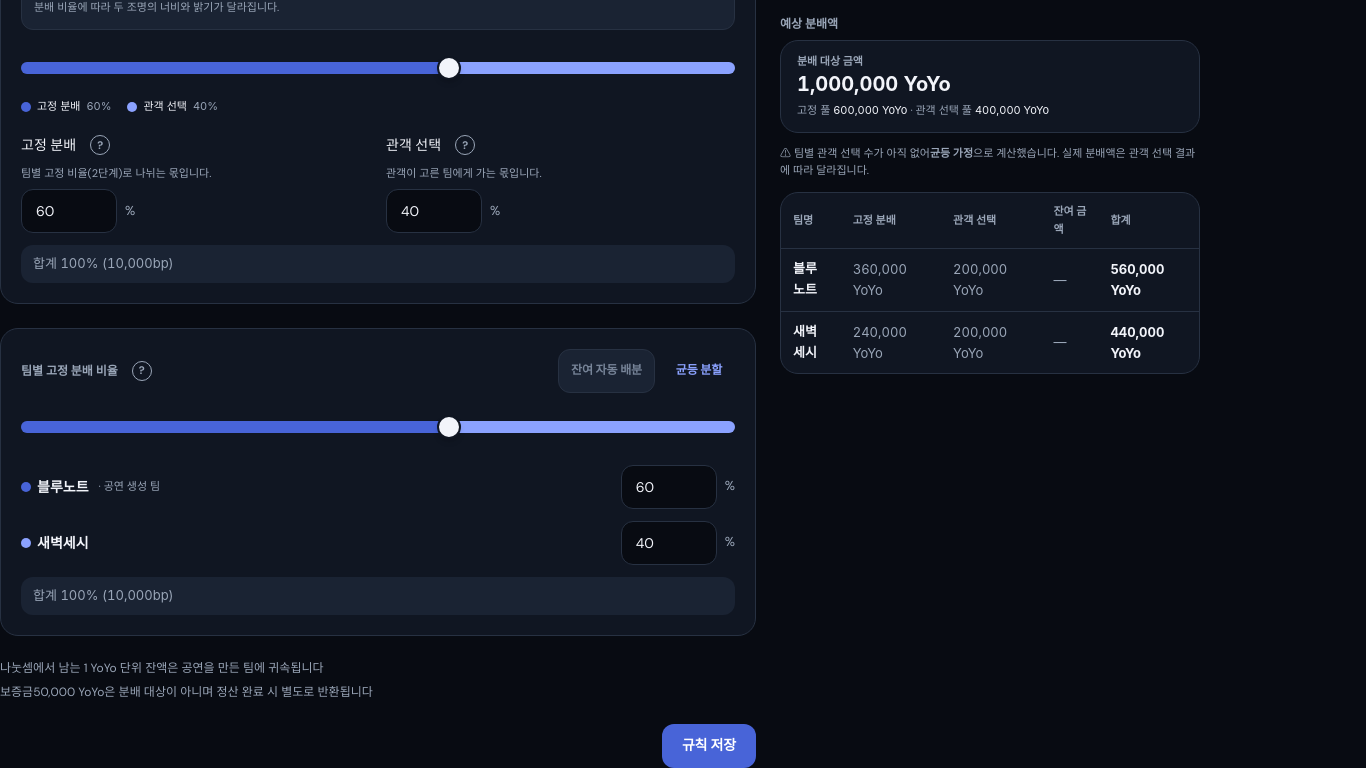
Scenario: 규칙 저장 성공 모달 › 닫기는 화면에 머물고 인라인 안내는 남는다 · Esc로도 닫힌다
(page scrolled)
Click the button "규칙 저장" at {"x": 709, "y": 746}, box [662, 724, 756, 767]
(page scrolled)
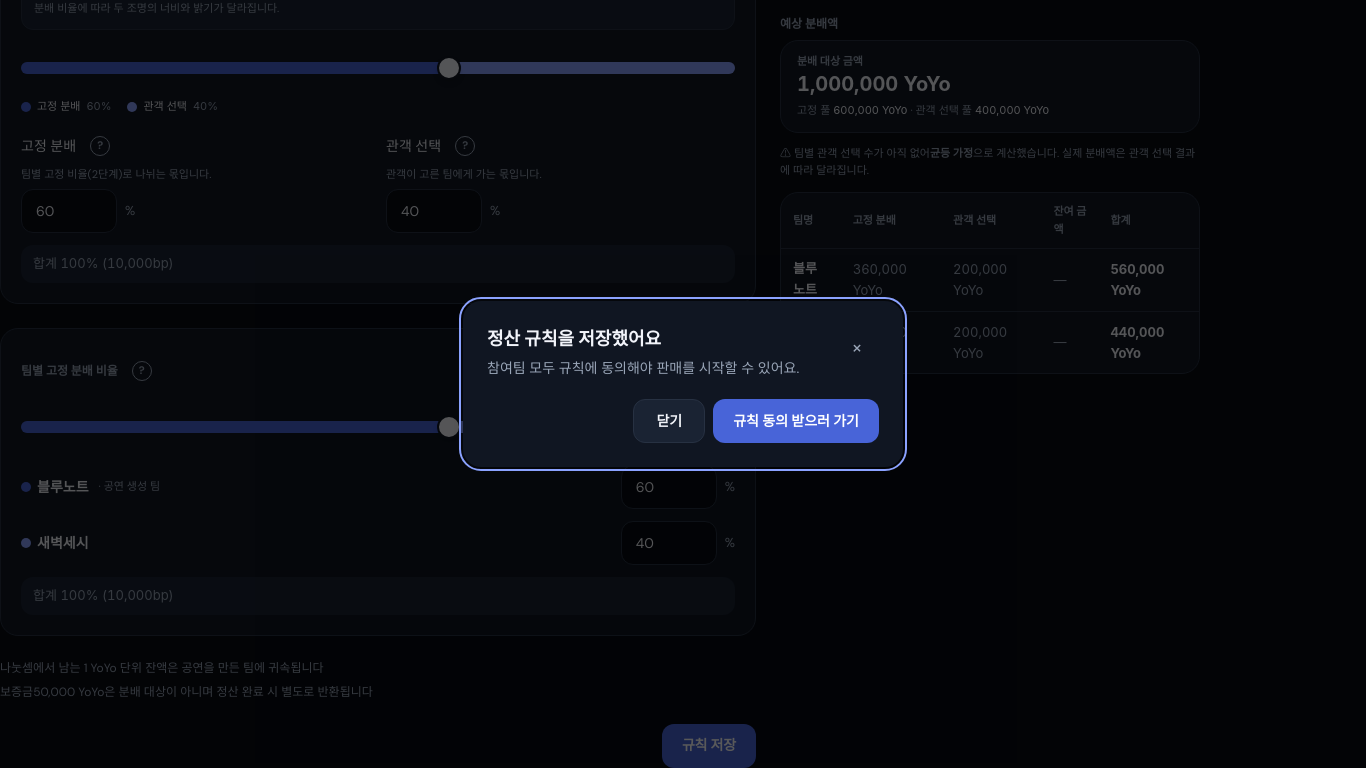
Click the button "닫기" at {"x": 669, "y": 421}, box [633, 399, 705, 443]
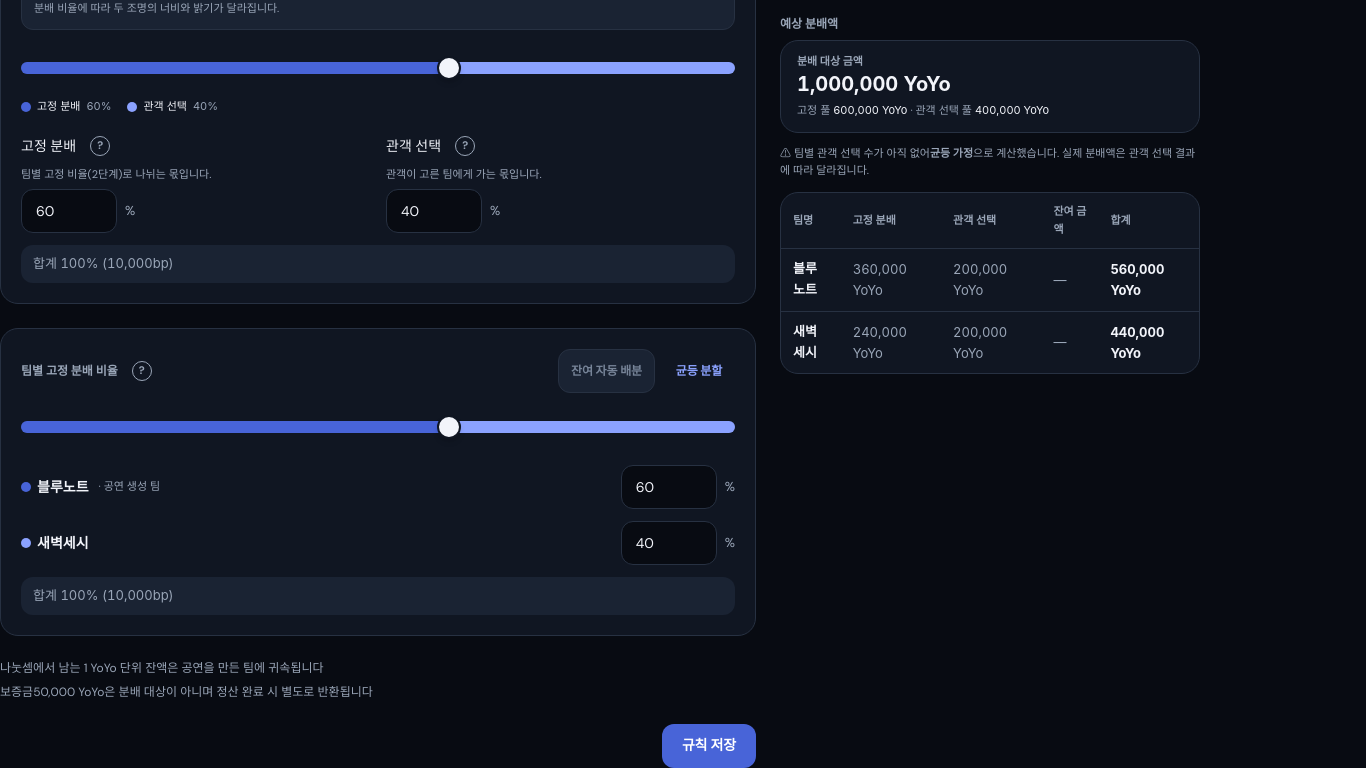
Now the dialog is gone
Click the button "규칙 저장" at {"x": 709, "y": 746}, box [662, 724, 756, 767]
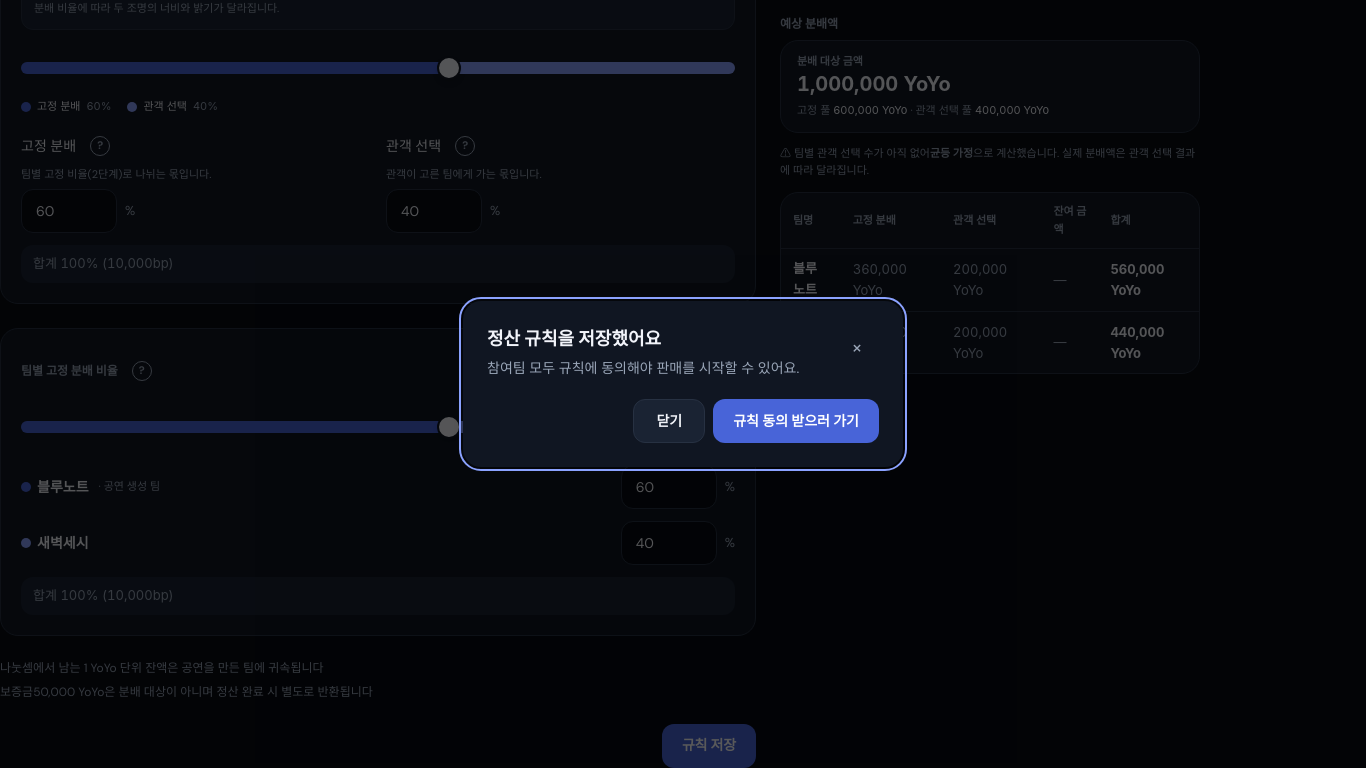
Now the dialog is shown, box [463, 301, 903, 467]
Press Escape
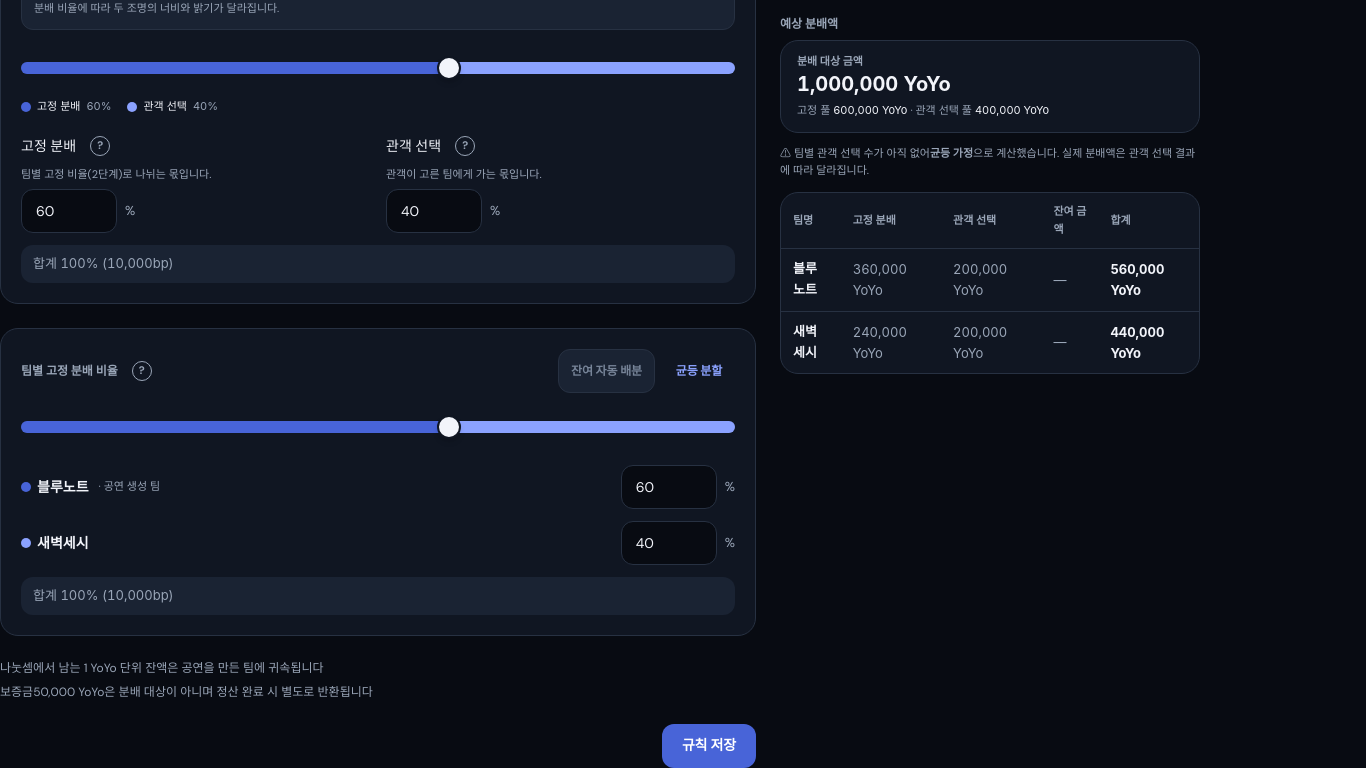
Now the dialog is gone
